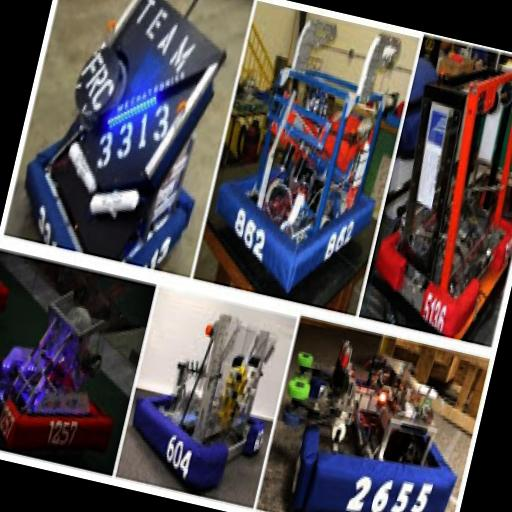robot: (201, 8, 415, 302), (13, 0, 241, 266), (369, 43, 512, 336), (266, 324, 480, 512), (122, 296, 290, 490), (0, 258, 143, 457)
